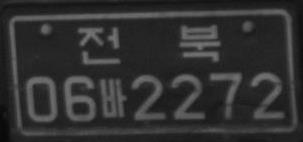0: (25, 75, 58, 122)
2: (249, 70, 285, 119), (131, 73, 166, 121), (170, 73, 205, 119)
6: (63, 74, 97, 121)
7: (208, 71, 244, 119)
바: (98, 78, 127, 118)
전북_D: (77, 24, 220, 63)
